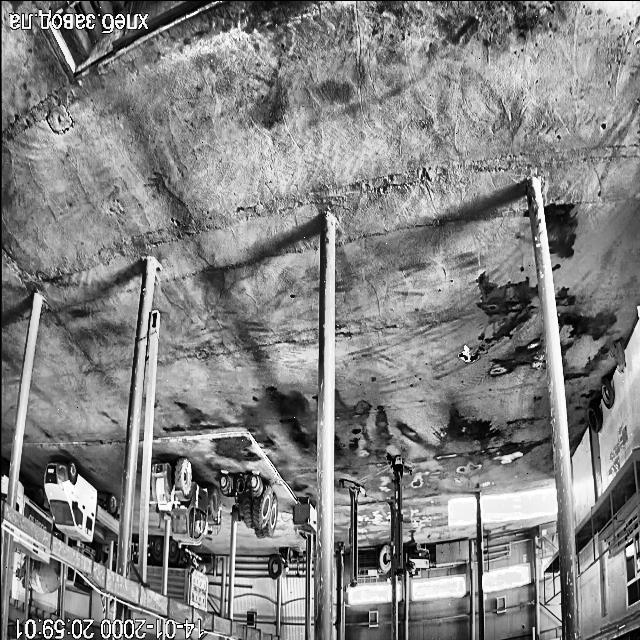car lift: (388, 454, 411, 573), (340, 479, 365, 588)
fire extinguisher: (616, 340, 624, 372)
tractor: (151, 458, 220, 544), (220, 475, 276, 538)
truck: (44, 460, 118, 540), (167, 540, 208, 612), (16, 482, 52, 532), (29, 558, 60, 594), (12, 538, 48, 562), (147, 538, 163, 592), (68, 541, 106, 562), (65, 567, 92, 595), (0, 462, 8, 500), (132, 543, 141, 563), (130, 569, 136, 580), (20, 564, 24, 580)
